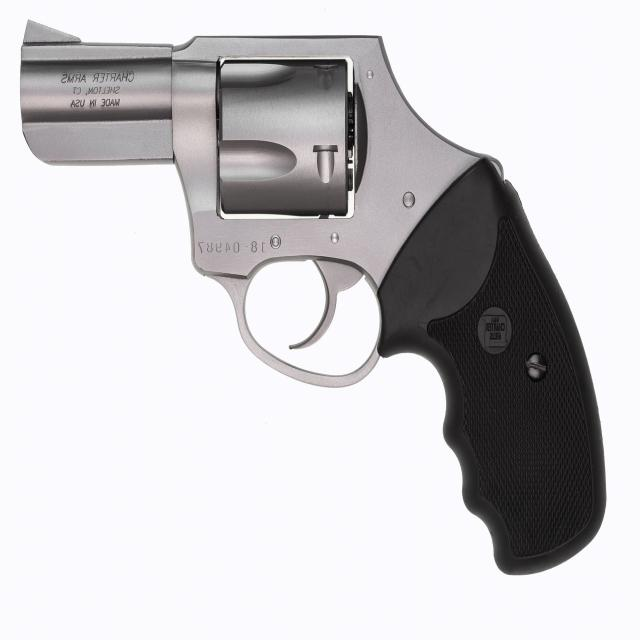Gun: (8, 9, 609, 590)
